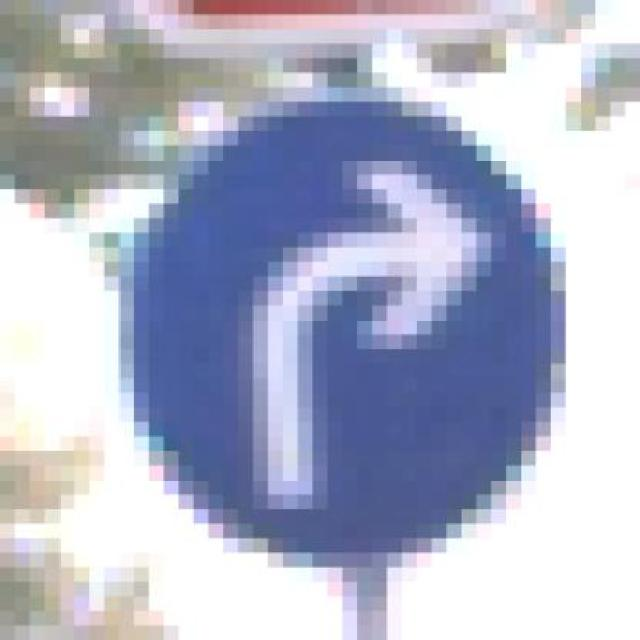Turn right ahead: (89, 87, 580, 582)
